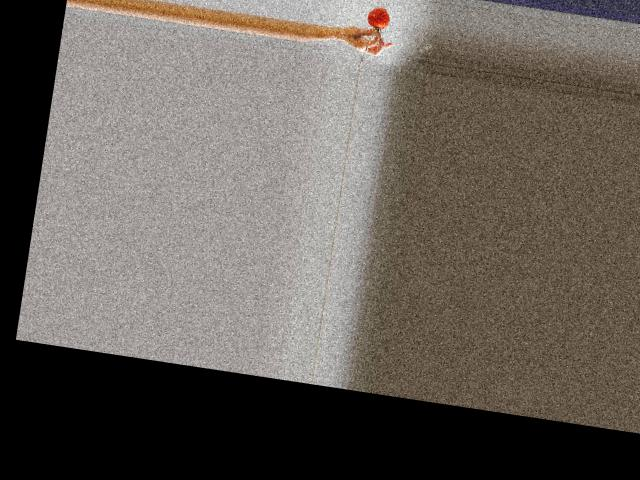tomato: (365, 5, 389, 28)
